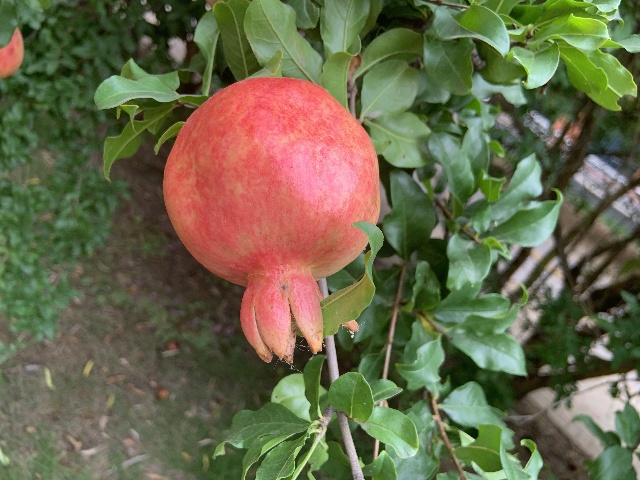ripe: (162, 76, 381, 364)
